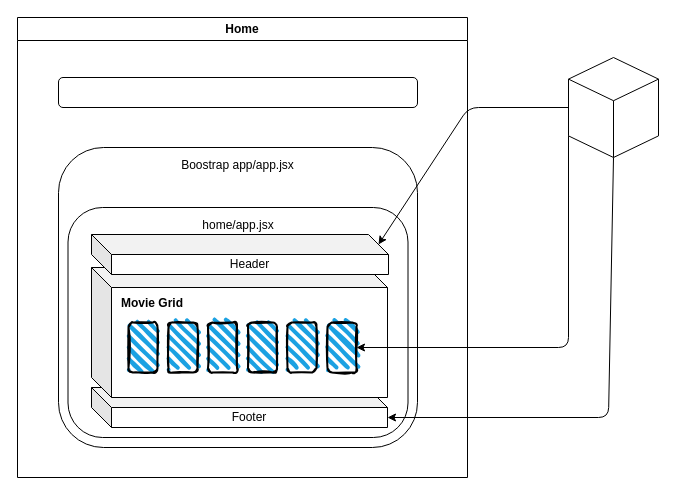
This 676x495 diagram has some shape labels left out. Each missing label, with the centre of its shape:
Component Library: point (613, 107)
Home Store: point (238, 92)
